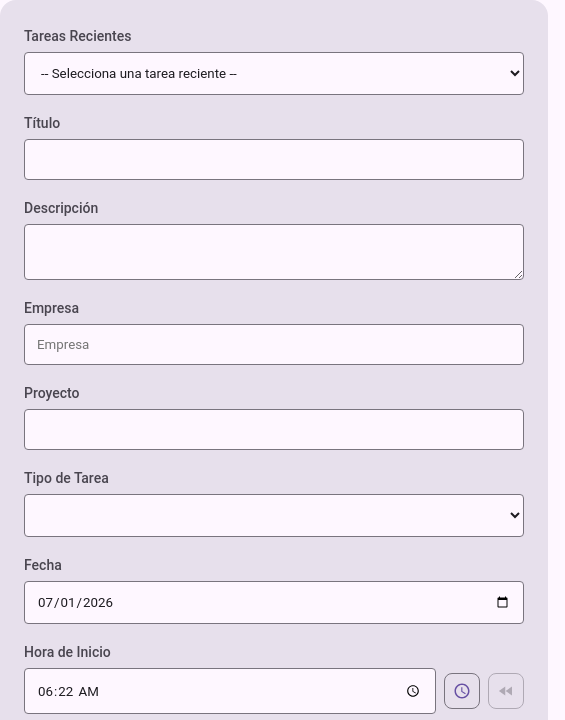
Scenario: TaskForm Recent Tasks UI › should populate the form when a recent task is selected
Select "Recent Task 1 (Project 1)" in the dropdown labelled "Tareas Recientes" at (274, 74), box [24, 52, 524, 95]
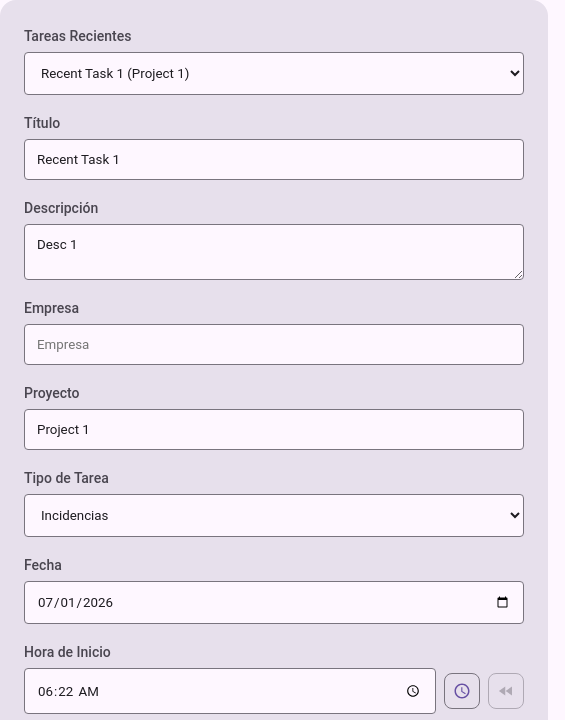
Expected: the field labelled "Título" holds "Recent Task 1", [24, 139, 524, 180]
Expected: the text box labelled "Descripción" holds "Desc 1", [24, 224, 524, 280]
Expected: the field labelled "Proyecto" holds "Project 1", [24, 409, 524, 450]
